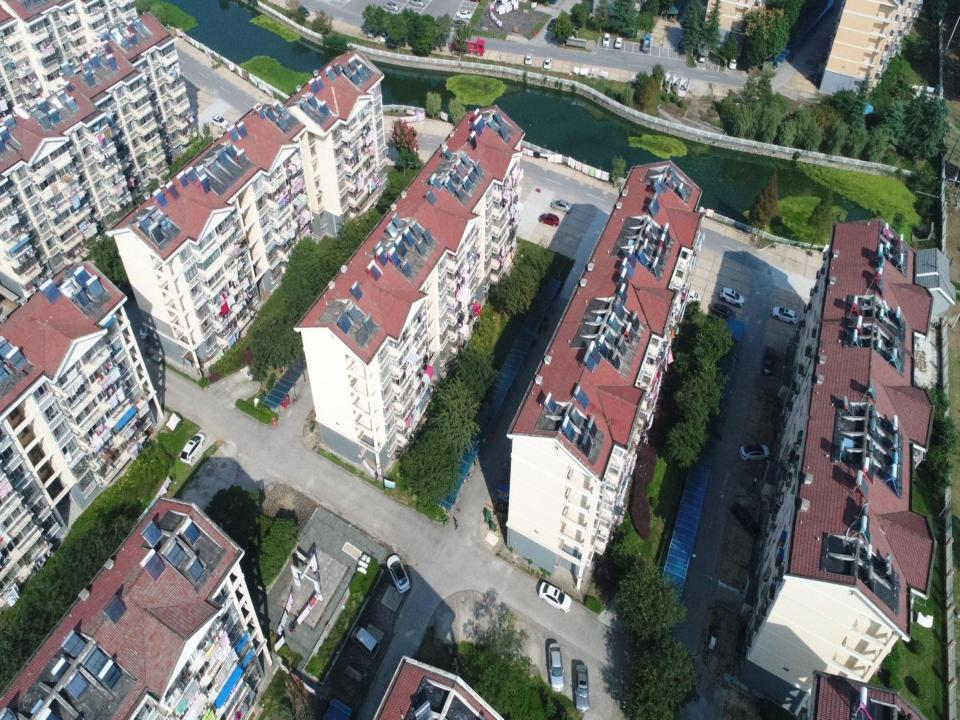car: (730, 501, 761, 538), (538, 582, 573, 613), (386, 554, 411, 592), (547, 642, 565, 692), (180, 432, 206, 464), (573, 664, 590, 712), (740, 443, 770, 463), (718, 285, 744, 308), (710, 302, 738, 322), (772, 306, 799, 326), (762, 346, 777, 375), (680, 287, 701, 306), (539, 212, 560, 228), (551, 199, 573, 214), (140, 324, 156, 341), (210, 115, 228, 129), (182, 105, 195, 119), (367, 24, 379, 39), (729, 51, 738, 70), (456, 10, 472, 20), (384, 1, 400, 11), (452, 19, 466, 29), (380, 29, 390, 43), (698, 47, 706, 63), (543, 57, 553, 69), (602, 32, 610, 46), (409, 0, 424, 7), (614, 36, 622, 48), (525, 53, 533, 65)
truck: (451, 37, 485, 57), (642, 34, 651, 53)
van: (350, 625, 381, 659)
